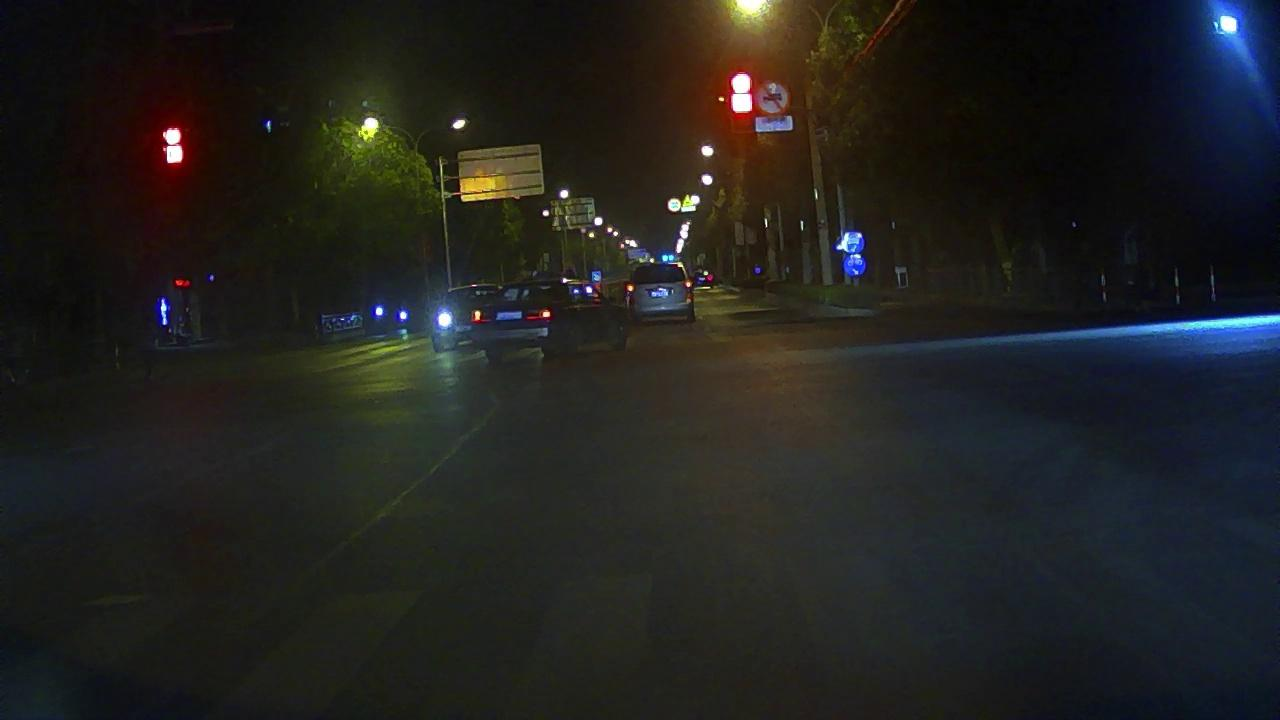traffic_light: (159, 119, 189, 172), (730, 66, 755, 120)
